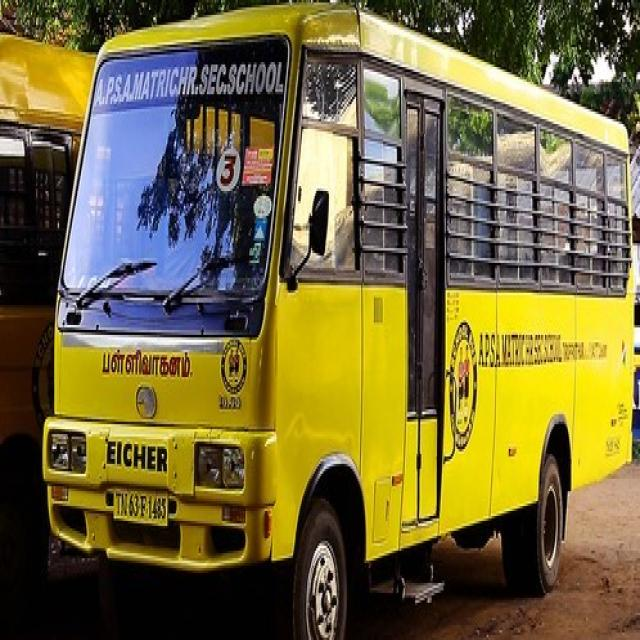bus: (42, 10, 632, 636)
